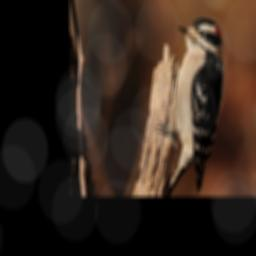Woodpecker: (153, 13, 225, 193)
